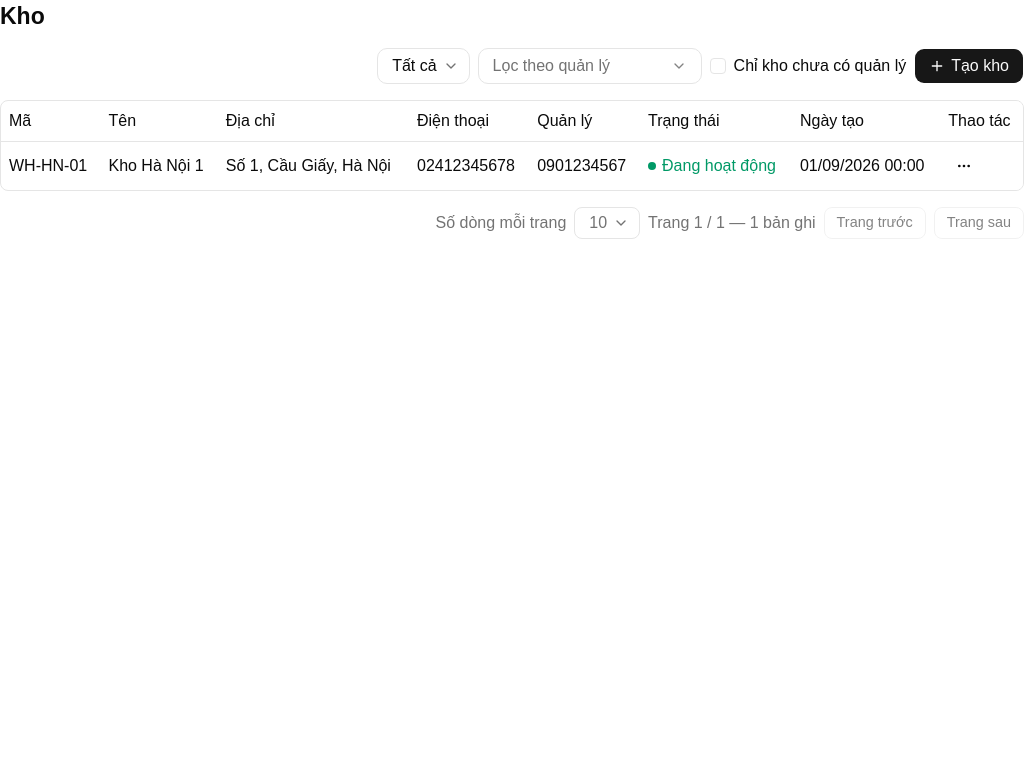
it: WarehousesPage — tạo / sửa › bấm Tạo kho mở sheet rỗng ở chế độ tạo
Expected: the link "Kho Hà Nội 1" is shown, x1=108 y1=154 x2=204 y2=178
Click the button "Tạo kho": (969, 66) x1=914 y1=48 x2=1023 y2=84
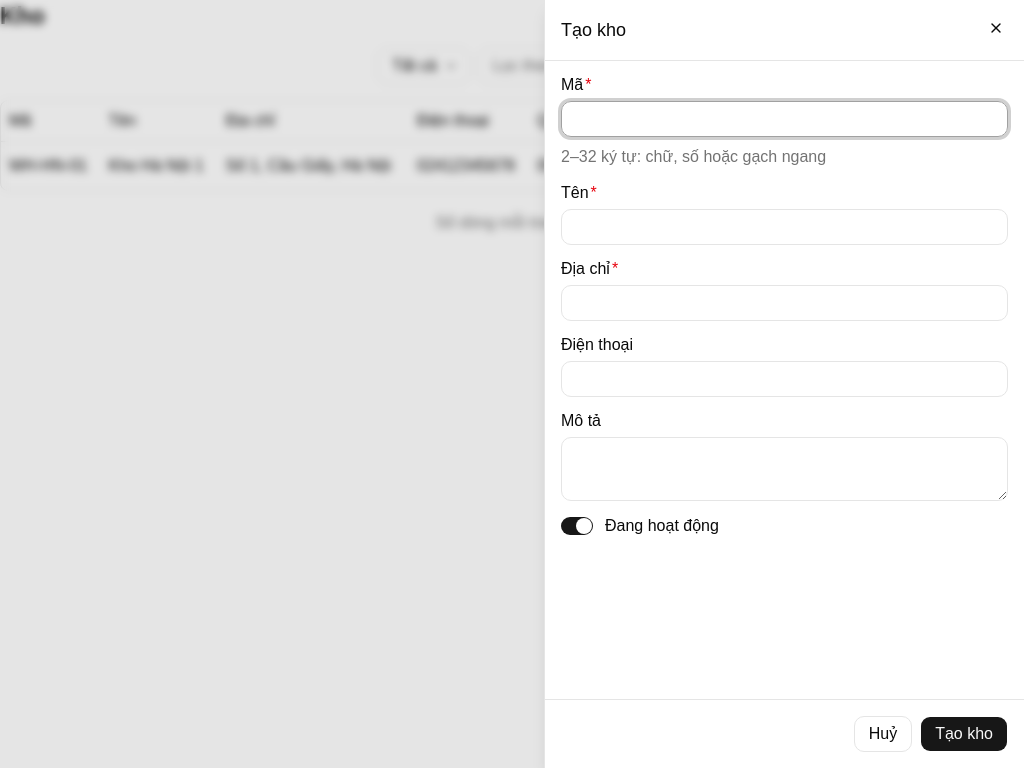
Expected: the heading "Tạo kho" is shown, x1=561 y1=20 x2=626 y2=40
Expected: the field labelled "Mã *" is empty, x1=561 y1=101 x2=1008 y2=137
